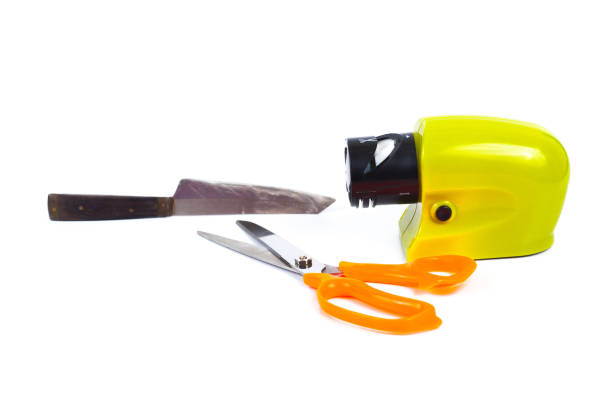knife: (44, 176, 341, 224)
